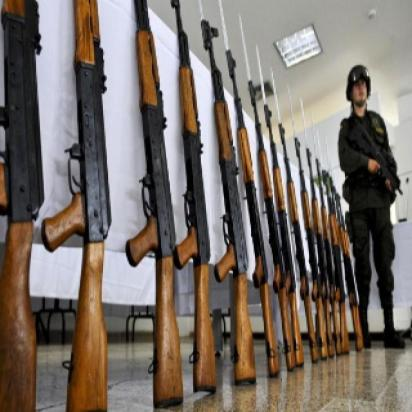Gun: (194, 8, 266, 385), (121, 1, 182, 410), (171, 1, 215, 398)
